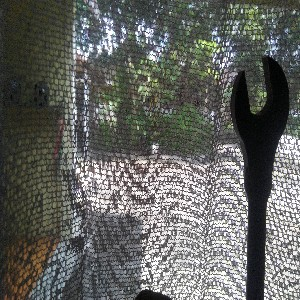spanner: (230, 54, 290, 300)
